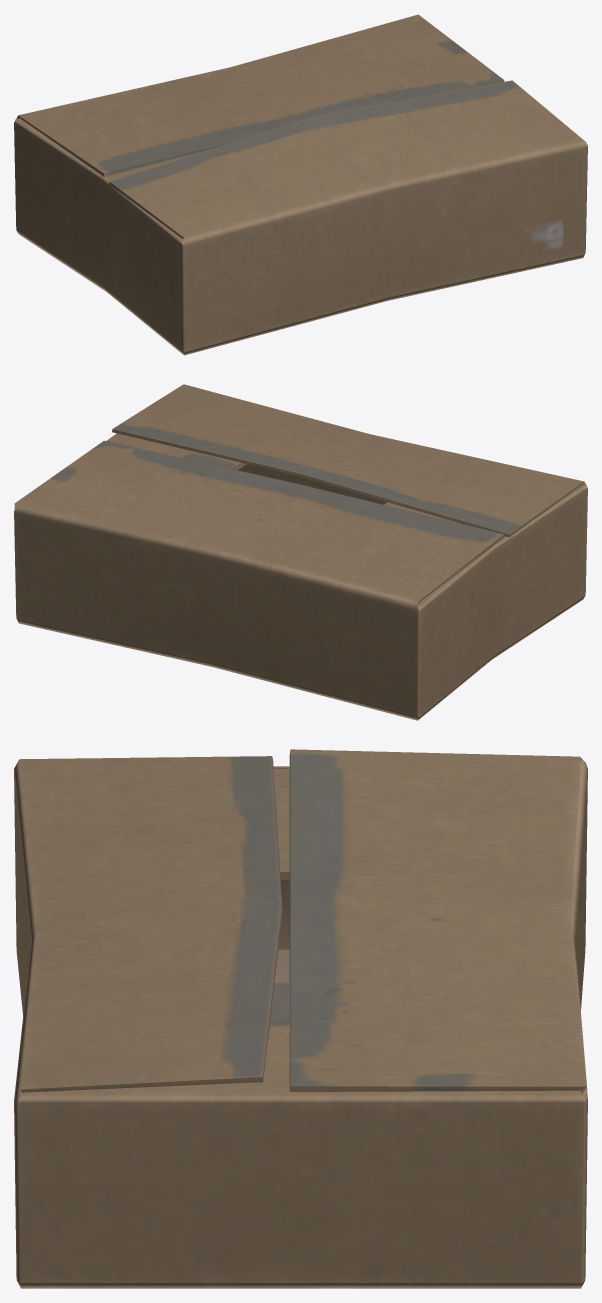
Rendered from SM_Ammo_Cardboard_Boxes_01a.glb.
3 renders of one model, top to bottom at view 1: azimuth 30°, elevation 25°; view 2: azimuth 150°, elevation 25°; view 3: azimuth 270°, elevation 25°, orthographic. The views are drawn at different scales.
Parts seen in each view (by area): view 1: SM_Ammo_Cardboard_Boxes_01a; view 2: SM_Ammo_Cardboard_Boxes_01a; view 3: SM_Ammo_Cardboard_Boxes_01a.
Part boxes in pixels (x1,y1,x2,y2): SM_Ammo_Cardboard_Boxes_01a: (14, 14, 587, 355); SM_Ammo_Cardboard_Boxes_01a: (14, 384, 587, 720); SM_Ammo_Cardboard_Boxes_01a: (14, 749, 587, 1288).
Size of the model in its own units: 0.5757 by 0.1786 by 0.4157.
1 material, 1 textured.
